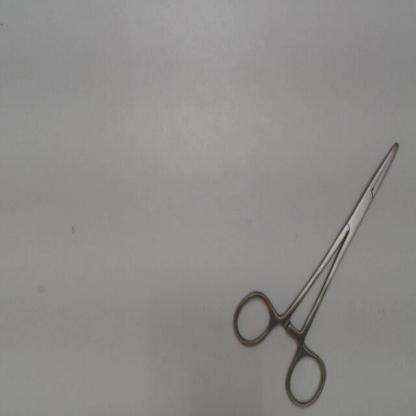Mayo Needle Holder: (225, 131, 407, 413)
